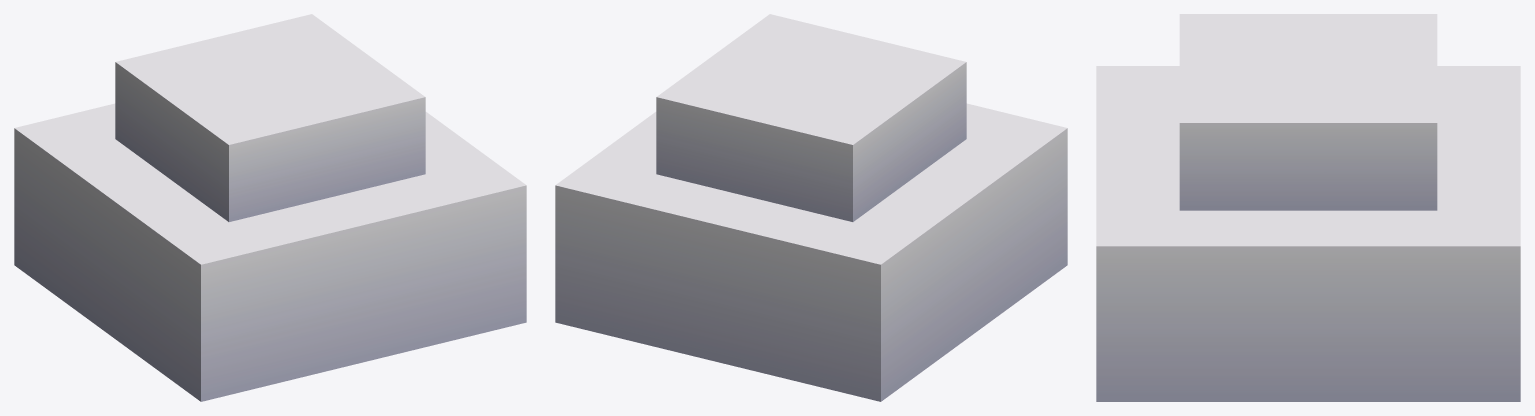
Rendered from kenney-brick-square-lq-plate-1-x-1.glb.
3 views of the same model, side by side, from view 1: azimuth 30°, elevation 25°; view 2: azimuth 150°, elevation 25°; view 3: azimuth 270°, elevation 25° (orthographic). The views are drawn at different scales.
Visible parts, largest first — view 1: square-lq-plate-1x1; view 2: square-lq-plate-1x1; view 3: square-lq-plate-1x1.
Part boxes in pixels (x1,y1,x2,y2): square-lq-plate-1x1: (14, 14, 526, 401); square-lq-plate-1x1: (555, 14, 1067, 401); square-lq-plate-1x1: (1096, 14, 1520, 401).
Bounding box in the file's own units: 0.0795 × 0.05 × 0.079.
Materials: 1 (1 with a texture image).
